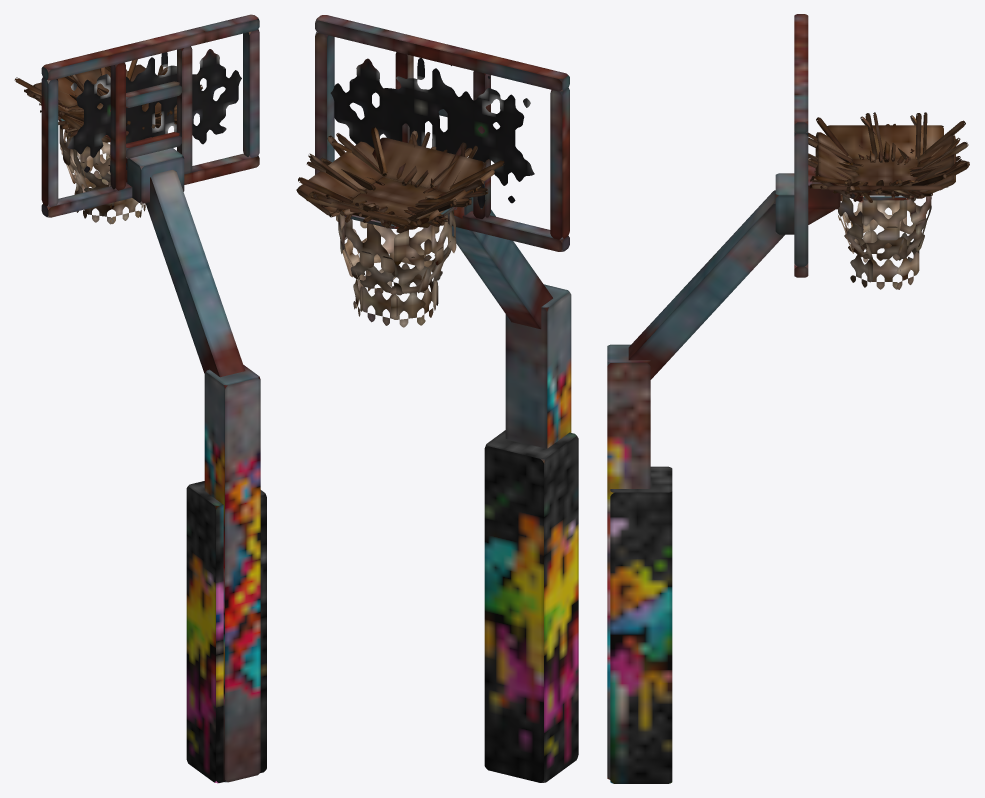
The model's file is Korvpalli korv.fbx.
3 renders of one model, left to right at view 1: azimuth 30°, elevation 25°; view 2: azimuth 150°, elevation 25°; view 3: azimuth 270°, elevation 25°, orthographic. The views are drawn at different scales.
Visible parts, largest first — view 1: cube_97, cube, cube_98, cube_141, cube_101, cube_100, cube_102, cube_103, cube_104, cube_99, cube_105, cube_96 (+2 smaller); view 2: cube, cube_141, cube_97, cube_101, cube_98, cube_95, cube_102, cube_103, cube_2, cube_100, cube_1, cube_123 (+11 smaller); view 3: cube, cube_98, cube_97, cube_3, cube_103, cube_101, cube_1, cube_95, cube_99, cube_119, cube_96, cube_107 (+1 smaller).
Boxes of the visible parts, box(x1,y1,x2,y2) form: cube_97: box(204, 365, 260, 782); cube: box(186, 481, 266, 783); cube_98: box(145, 169, 245, 388); cube_141: box(67, 49, 241, 172); cube_101: box(41, 14, 259, 80); cube_100: box(41, 153, 259, 217); cube_102: box(41, 77, 58, 206); cube_103: box(243, 29, 259, 157); cube_104: box(110, 62, 125, 190); cube_99: box(127, 148, 184, 203); cube_105: box(177, 46, 192, 174); cube_96: box(33, 68, 127, 107); cube: box(484, 430, 578, 782); cube_141: box(330, 58, 534, 209); cube_97: box(505, 284, 571, 463); cube_101: box(315, 15, 569, 91); cube_98: box(451, 209, 552, 329); cube_95: box(372, 137, 486, 192); cube_102: box(550, 88, 569, 239); cube_103: box(315, 31, 334, 174); cube_2: box(296, 141, 383, 215); cube_100: box(448, 211, 569, 251); cube_1: box(351, 177, 445, 229); cube_123: box(345, 219, 394, 273); cube: box(610, 466, 672, 783); cube_98: box(628, 190, 784, 379); cube_97: box(607, 344, 650, 779); cube_3: box(826, 125, 943, 158); cube_103: box(794, 132, 808, 266); cube_101: box(794, 14, 808, 133); cube_1: box(849, 159, 917, 195); cube_95: box(815, 132, 852, 197); cube_99: box(775, 173, 794, 234); cube_119: box(862, 200, 906, 240); cube_96: box(917, 135, 955, 196); cube_107: box(808, 165, 840, 209).
Size of the model in its own units: 104 by 314 by 147.
Materials: 1 (1 with a texture image).
